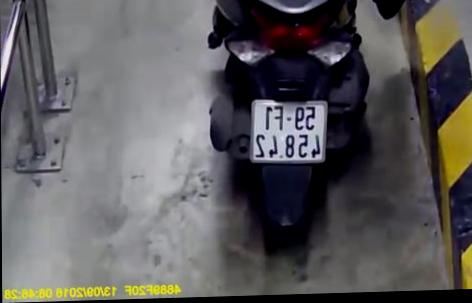License_Plate: (242, 96, 335, 167)
